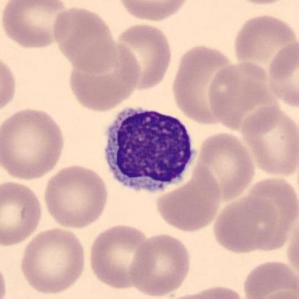Lymphocyte: (97, 100, 200, 201)
RBC: (170, 41, 239, 126), (64, 38, 142, 113), (0, 105, 68, 181), (18, 225, 88, 296), (50, 4, 119, 74), (191, 130, 256, 203), (42, 162, 110, 230), (205, 60, 272, 129), (87, 222, 154, 291), (239, 104, 298, 179), (127, 231, 193, 298), (114, 20, 174, 92), (211, 194, 279, 255), (0, 0, 71, 51), (231, 12, 297, 64), (0, 178, 44, 248), (265, 38, 299, 110), (240, 258, 298, 299), (114, 0, 192, 23), (0, 51, 18, 120), (170, 284, 250, 299), (285, 210, 299, 282), (151, 289, 232, 299), (253, 287, 298, 299), (227, 0, 294, 7), (0, 255, 9, 299)
